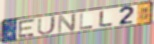2: (117, 5, 137, 27)
E: (17, 18, 37, 39)
L: (99, 10, 115, 28), (79, 13, 95, 31)
N: (57, 12, 78, 34)
U: (36, 15, 58, 36)
